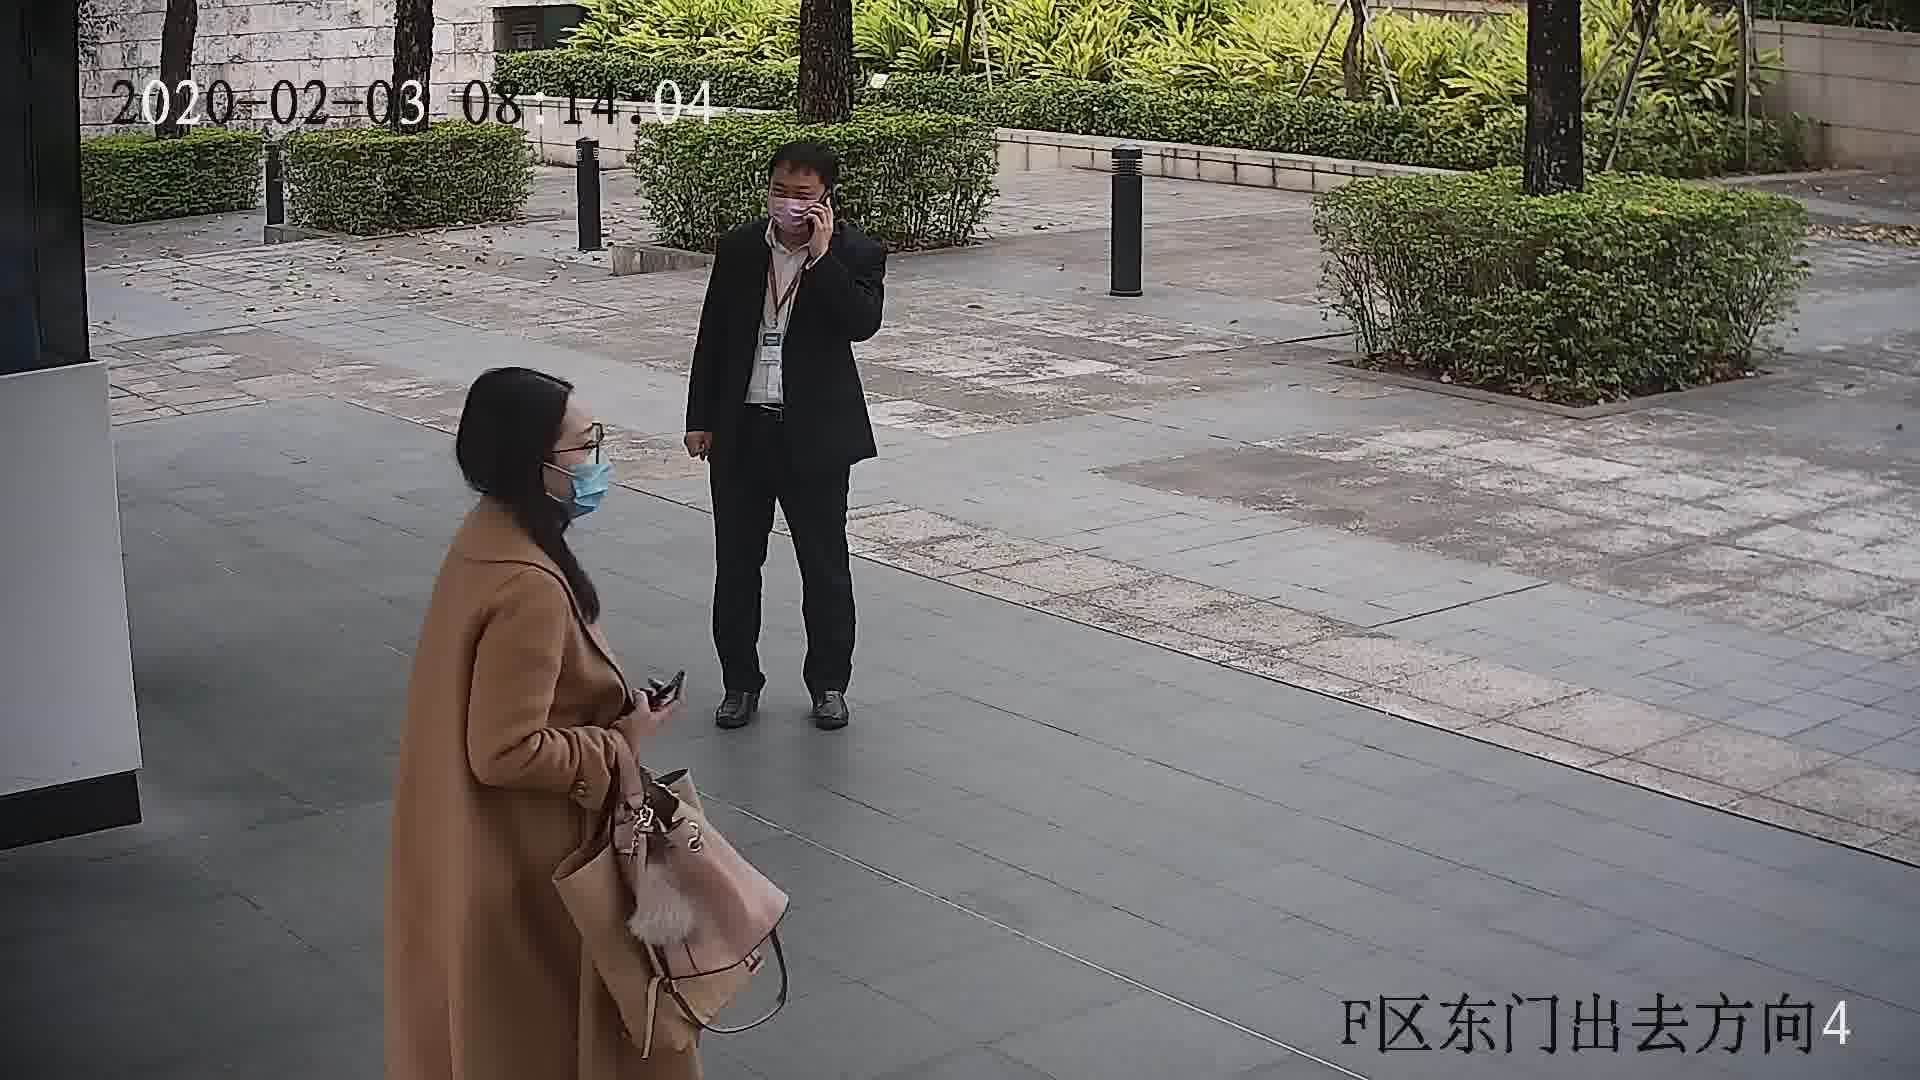face: (508, 401, 613, 523), (768, 167, 833, 232)
mask: (566, 452, 608, 513), (768, 192, 820, 233)
person: (431, 353, 606, 625), (717, 142, 883, 283)
